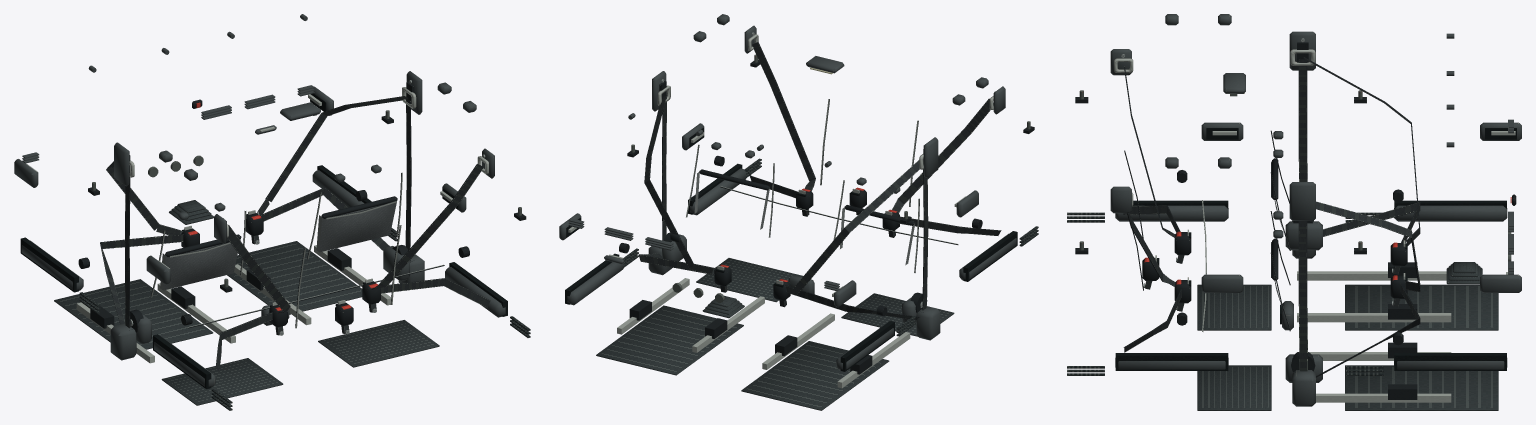
Rendered from cabin_fittings.glb.
The picture shows the model from 3 angles, left to right: view 1: azimuth 30°, elevation 25°; view 2: azimuth 150°, elevation 25°; view 3: azimuth 270°, elevation 25°; orthographic projection. The views are drawn at different scales.
Parts seen in each view (by area): view 1: cabin_fittings; view 2: cabin_fittings; view 3: cabin_fittings.
Part boxes in pixels (bbox=[...]): cabin_fittings: bbox=[14, 14, 530, 410]; cabin_fittings: bbox=[559, 14, 1038, 410]; cabin_fittings: bbox=[1067, 14, 1521, 410].
Bounding box in the file's own units: 1.55 × 1.23 × 1.89.
Materials: 1 (1 with a texture image).
